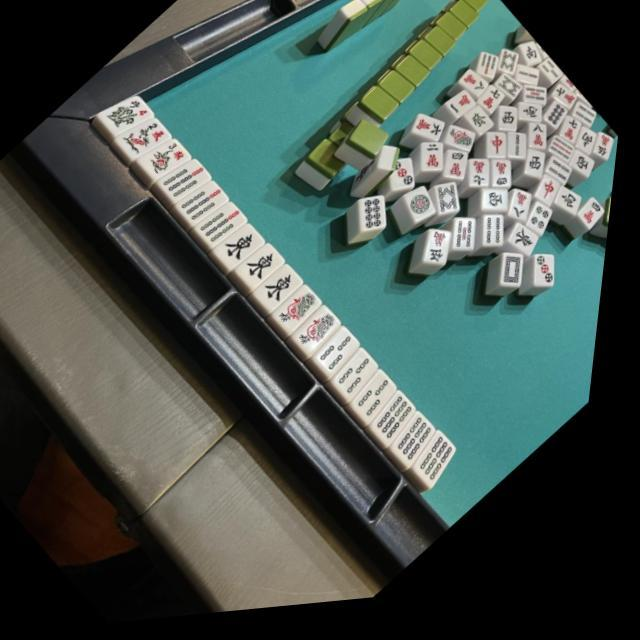hwe: (223, 227, 271, 274), (262, 270, 310, 316), (244, 248, 291, 294)
sb1: (276, 292, 330, 344), (297, 312, 348, 362)
sb3: (339, 358, 390, 408), (360, 380, 410, 430), (322, 336, 370, 382)
sb6: (420, 442, 474, 495), (398, 421, 452, 474), (378, 400, 432, 452)
sb7: (164, 158, 216, 210), (180, 181, 232, 232), (200, 204, 252, 254)
